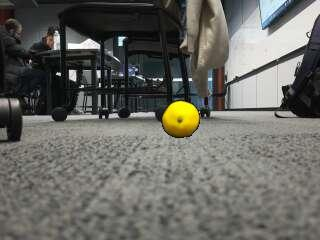lemon: (162, 101, 199, 138)
